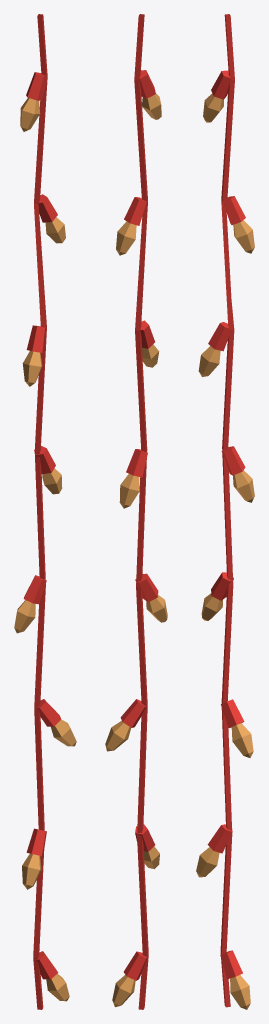
File: SM_Light_String_Color_Big_Vertical_2m_Christmas.fbx
The picture shows the model from 3 angles, left to right: view 1: azimuth 30°, elevation 25°; view 2: azimuth 210°, elevation 25°; view 3: azimuth 330°, elevation 25°; orthographic projection.
Parts seen in each view (by area): view 1: light-string-color-big-vertical-2m-christmas; view 2: light-string-color-big-vertical-2m-christmas; view 3: light-string-color-big-vertical-2m-christmas.
Boxes of the visible parts, x1,y1,x2,y2 form: light-string-color-big-vertical-2m-christmas: [14, 14, 76, 1009]; light-string-color-big-vertical-2m-christmas: [105, 14, 167, 1009]; light-string-color-big-vertical-2m-christmas: [196, 14, 254, 1009].
Size of the model in its own units: 0.1193 by 2 by 0.0623.
